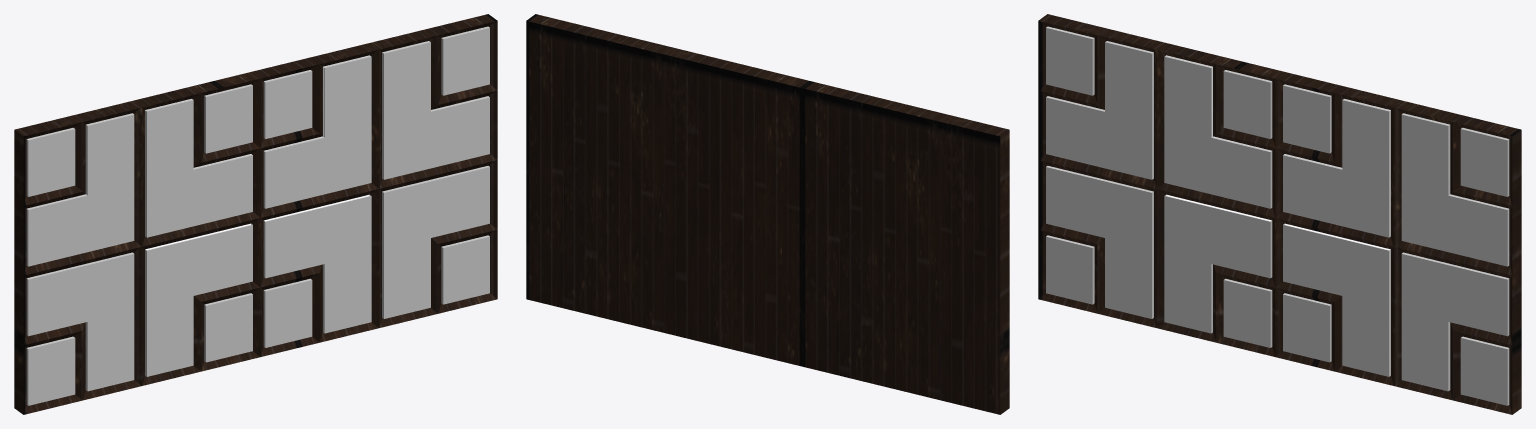
The model's file is floor.gltf.
3 views of the same model, side by side, from view 1: azimuth 30°, elevation 25°; view 2: azimuth 150°, elevation 25°; view 3: azimuth 330°, elevation 25° (orthographic).
Parts seen in each view (by area): view 1: mesh_hanzi, mesh_wall; view 2: mesh_wall; view 3: mesh_hanzi, mesh_wall.
Part boxes in pixels (box(x1,y1,x2,y2)): mesh_hanzi: box(26, 26, 489, 405); mesh_wall: box(14, 14, 497, 414); mesh_wall: box(526, 14, 1009, 414); mesh_hanzi: box(1046, 26, 1509, 405); mesh_wall: box(1038, 14, 1521, 414).
Bounding box in the file's own units: 89.09 × 50 × 3.03.
1 material, 1 textured.
